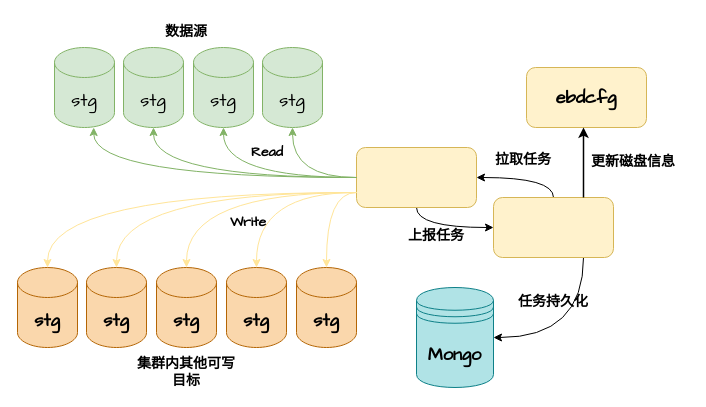
The diagram is 706 pixels wide and 407 high, and some of its shapes have lost their labels. Here are the shapes that lost their labels. From the top down, the box of each, then its label:
(356, 146, 476, 208): worker
(492, 196, 614, 258): ebdmaster
